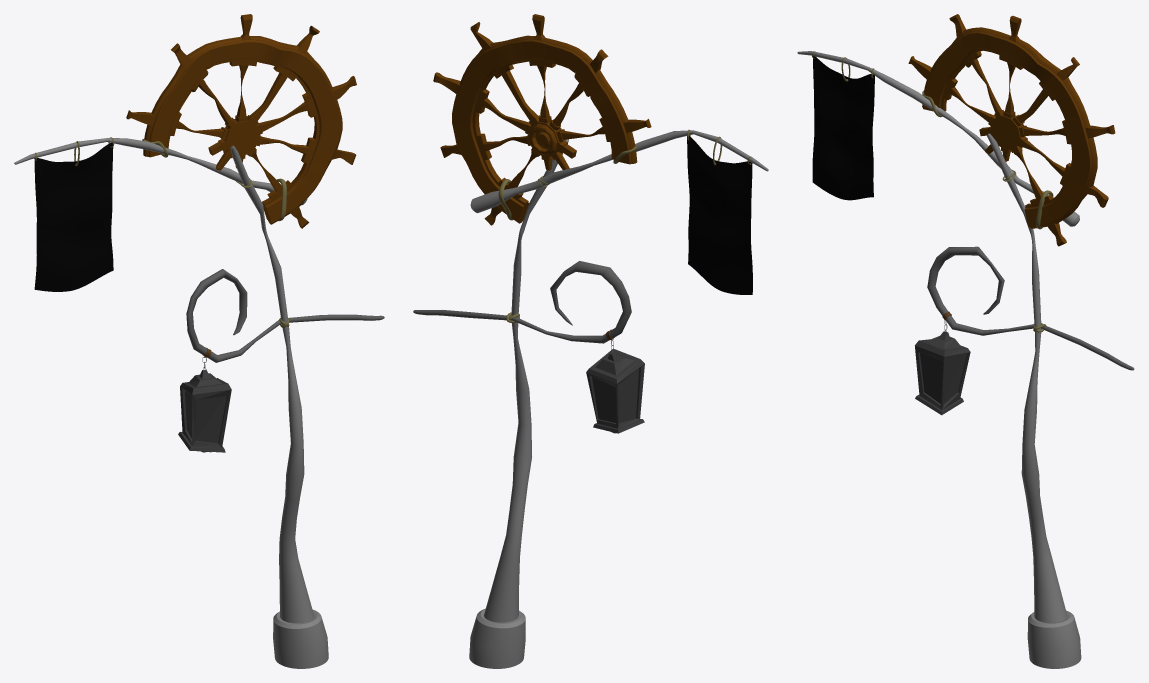
Rendered from Drapeau.fbx.
The picture shows the model from 3 angles, left to right: view 1: azimuth 30°, elevation 25°; view 2: azimuth 150°, elevation 25°; view 3: azimuth 330°, elevation 25°; orthographic projection. The views are drawn at different scales.
Parts seen in each view (by area): view 1: pCylinder3, pCube1, pCylinder4, polySurface8, pCylinder6, pCylinder5, pTorus10; view 2: pCylinder3, pCylinder4, pCube1, polySurface8, pCylinder6, pCylinder5, pTorus10; view 3: pCylinder3, pCylinder4, pCube1, polySurface8, pCylinder6, pCylinder5, pTorus10.
Boxes of the visible parts, x1=… form: pCylinder3: x1=126, y1=14, x2=356, y2=228; pCube1: x1=34, y1=143, x2=113, y2=291; pCylinder4: x1=230, y1=145, x2=328, y2=668; polySurface8: x1=178, y1=369, x2=231, y2=452; pCylinder6: x1=186, y1=269, x2=384, y2=362; pCylinder5: x1=14, y1=138, x2=307, y2=205; pTorus10: x1=35, y1=137, x2=289, y2=327; pCylinder3: x1=433, y1=14, x2=651, y2=225; pCylinder4: x1=469, y1=139, x2=568, y2=668; pCube1: x1=687, y1=136, x2=752, y2=294; polySurface8: x1=586, y1=348, x2=644, y2=433; pCylinder6: x1=413, y1=261, x2=631, y2=343; pCylinder5: x1=470, y1=130, x2=768, y2=213; pTorus10: x1=498, y1=129, x2=752, y2=322; pCylinder3: x1=908, y1=14, x2=1115, y2=246; pCylinder4: x1=987, y1=133, x2=1081, y2=668; pCube1: x1=812, y1=56, x2=874, y2=200; polySurface8: x1=915, y1=331, x2=970, y2=415; pCylinder6: x1=927, y1=246, x2=1134, y2=370; pCylinder5: x1=797, y1=51, x2=1079, y2=226; pTorus10: x1=812, y1=51, x2=1053, y2=332.
Size of the model in its own units: 32.54 by 56.24 by 5.84.
